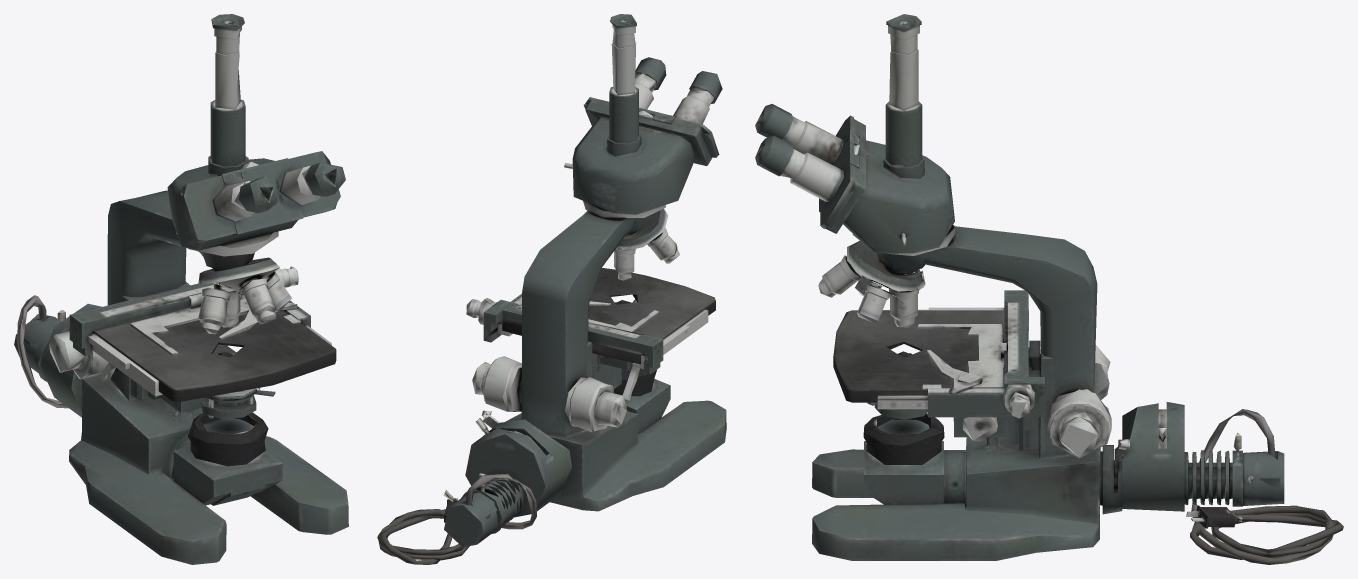
The model's file is x_micro.glb.
3 renders of one model, left to right at view 1: azimuth 30°, elevation 25°; view 2: azimuth 150°, elevation 25°; view 3: azimuth 270°, elevation 25°, orthographic. The views are drawn at different scales.
Bounding box in the file's own units: 0.2145 × 0.4617 × 0.4967.
1 material, 1 textured.
